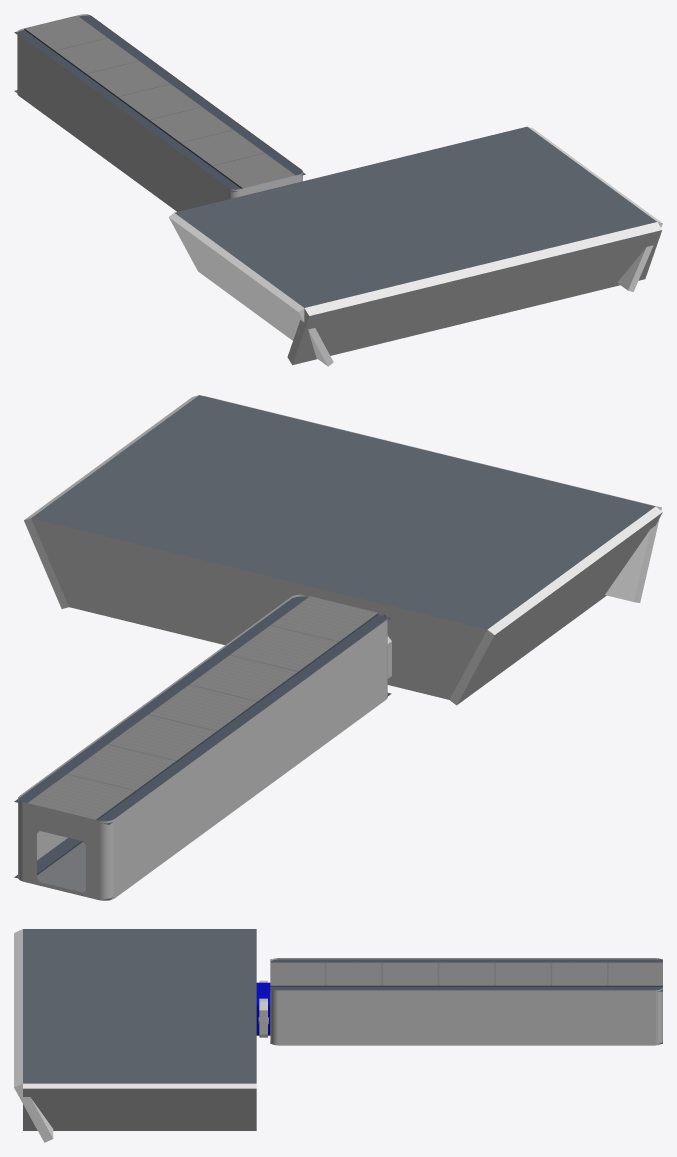
File: enemy mothership - GAME 2.fbx
3 views of the same model, one above another, from view 1: azimuth 30°, elevation 25°; view 2: azimuth 150°, elevation 25°; view 3: azimuth 270°, elevation 25° (orthographic). The views are drawn at different scales.
Parts seen in each view (by area): view 1: control room roof, coly, hallway roof, hallway walls, cubes.001, cubes; view 2: control room roof, hallway walls, hallway roof, ctrl room wall, cubes.001, coly, hallway floor, cubes; view 3: control room roof, hallway walls, hallway roof, cubes, coly, Sci-fi_Door_Frame.004, Sci-fi_Door_Door_2.004.
Part boxes in pixels (bbox=[...]): control room roof: bbox=[174, 126, 656, 307]; coly: bbox=[287, 222, 661, 365]; hallway roof: bbox=[14, 15, 305, 192]; hallway walls: bbox=[17, 14, 302, 211]; cubes.001: bbox=[169, 213, 333, 366]; cubes: bbox=[527, 126, 662, 291]; control room roof: bbox=[31, 395, 655, 629]; hallway walls: bbox=[18, 594, 387, 900]; hallway roof: bbox=[14, 596, 391, 824]; ctrl room wall: bbox=[31, 518, 486, 699]; cubes.001: bbox=[449, 506, 662, 705]; coly: bbox=[201, 395, 661, 602]; hallway floor: bbox=[14, 693, 391, 900]; cubes: bbox=[24, 395, 198, 608]; control room roof: bbox=[23, 929, 256, 1083]; hallway walls: bbox=[270, 958, 662, 1045]; hallway roof: bbox=[270, 959, 662, 991]; cubes: bbox=[23, 1083, 256, 1130]; coly: bbox=[14, 929, 53, 1142]; Sci-fi_Door_Frame.004: bbox=[256, 982, 270, 1035]; Sci-fi_Door_Door_2.004: bbox=[258, 998, 268, 1037].
Bounding box in the file's own units: 2477 × 500 × 4258.
